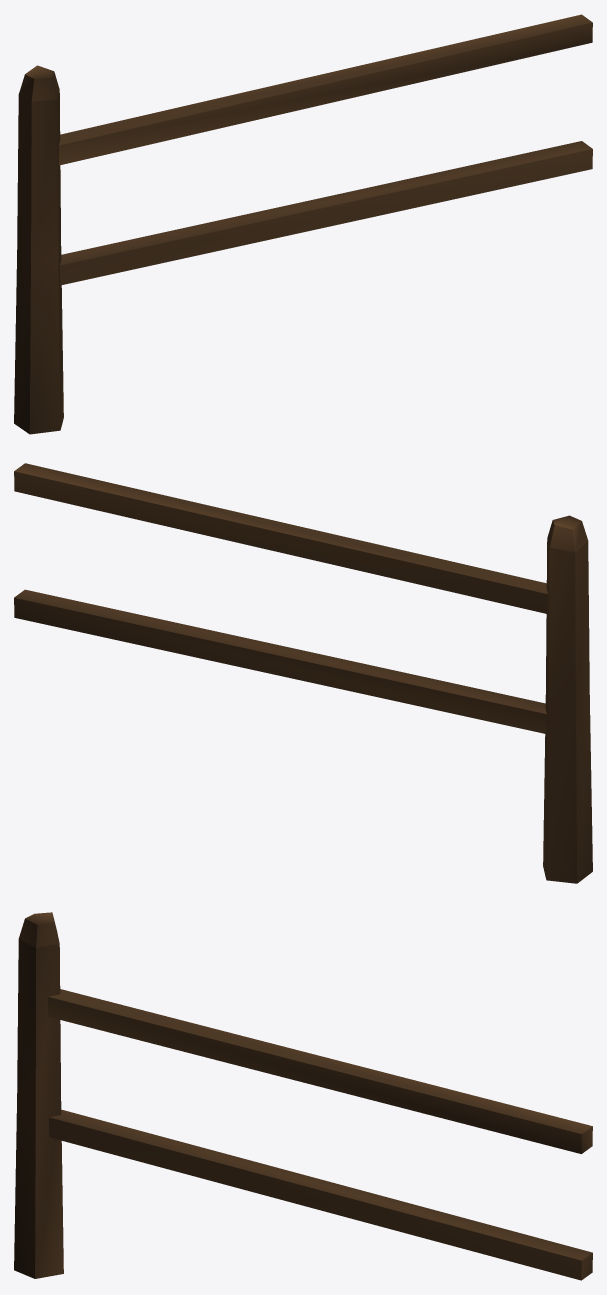
The model's file is fence.glb.
3 views of the same model, one above another, from view 1: azimuth 30°, elevation 25°; view 2: azimuth 150°, elevation 25°; view 3: azimuth 330°, elevation 25° (orthographic).
Visible parts, largest first — view 1: fence; view 2: fence; view 3: fence.
Part boxes in pixels (<box>): fence: <box>14,14,592,434</box>; fence: <box>14,463,592,883</box>; fence: <box>14,912,592,1280</box>.
Bounding box in the file's own units: 2.07 × 1.23 × 0.1617.
